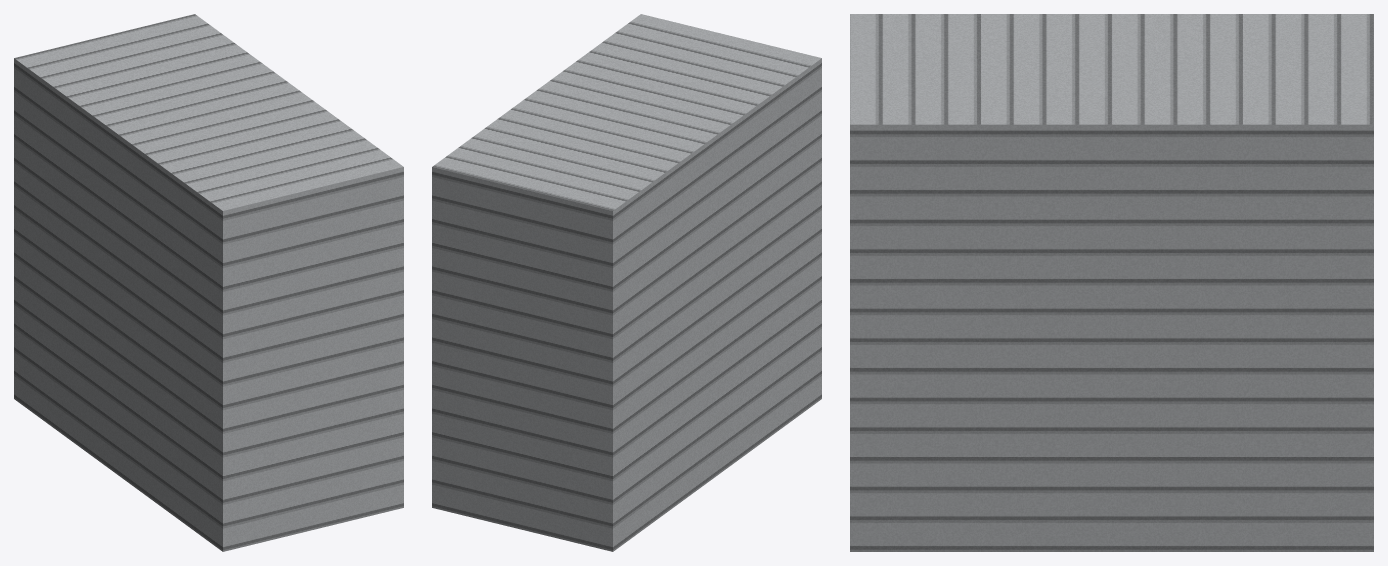
The model's file is forklift.glb.
The picture shows the model from 3 angles, left to right: view 1: azimuth 30°, elevation 25°; view 2: azimuth 150°, elevation 25°; view 3: azimuth 270°, elevation 25°; orthographic projection. The views are drawn at different scales.
Visible parts, largest first — view 1: forklift-col; view 2: forklift-col; view 3: forklift-col.
Part boxes in pixels (<box>): forklift-col: <box>14,14,403,551</box>; forklift-col: <box>432,14,821,551</box>; forklift-col: <box>850,14,1373,551</box>.
Bounding box in the file's own units: 1 × 1.8 × 2.
Materials: 1 (1 with a texture image).
